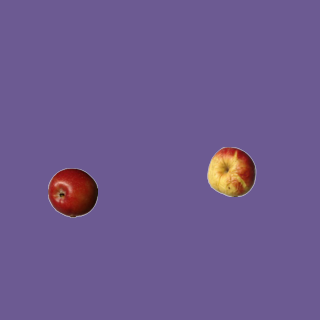Apple Braeburn: (47, 167, 97, 217)
Apple Red Yellow 1: (206, 146, 256, 196)
